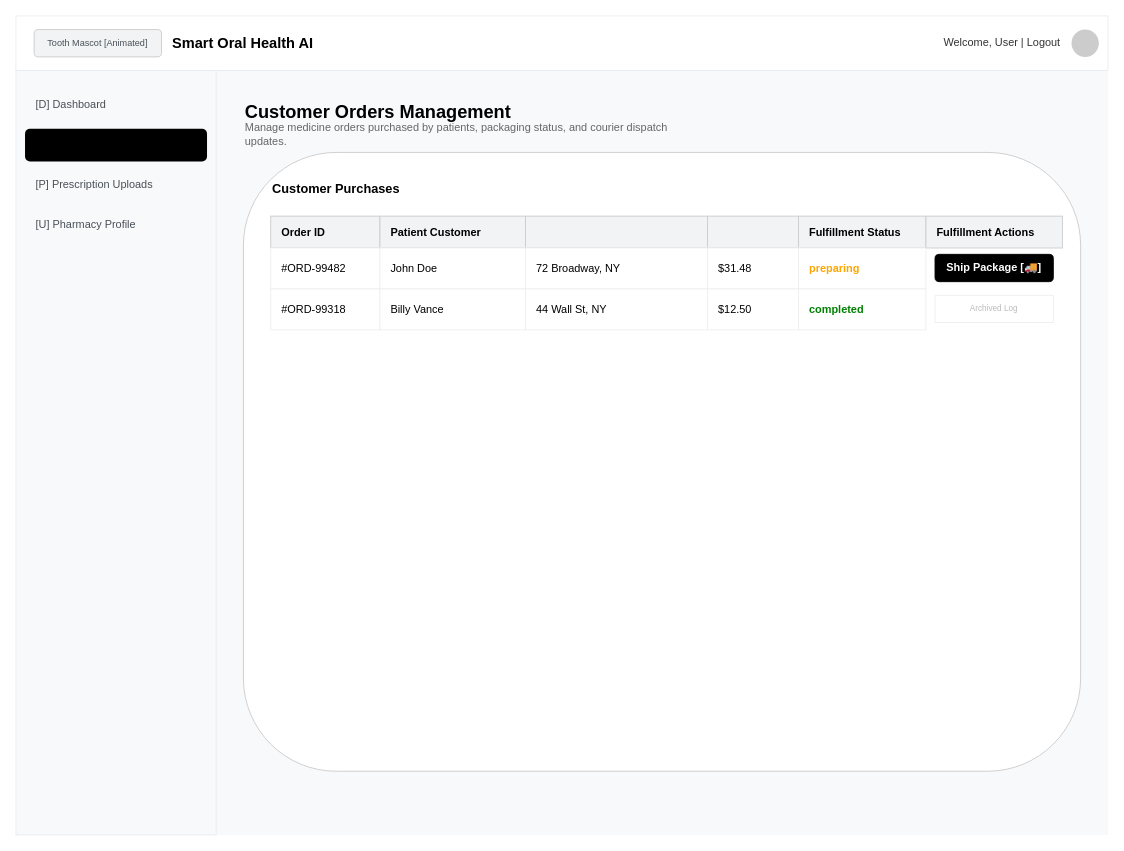
The diagram is 1124 pixels wide and 851 high, and some of its shapes have lost their labels. Each missing label, with the centre of its shape:
"[O] Manage Orders" belongs at point (116, 144).
"Delivery Address" belongs at point (616, 231).
"Order Price" belongs at point (753, 231).
